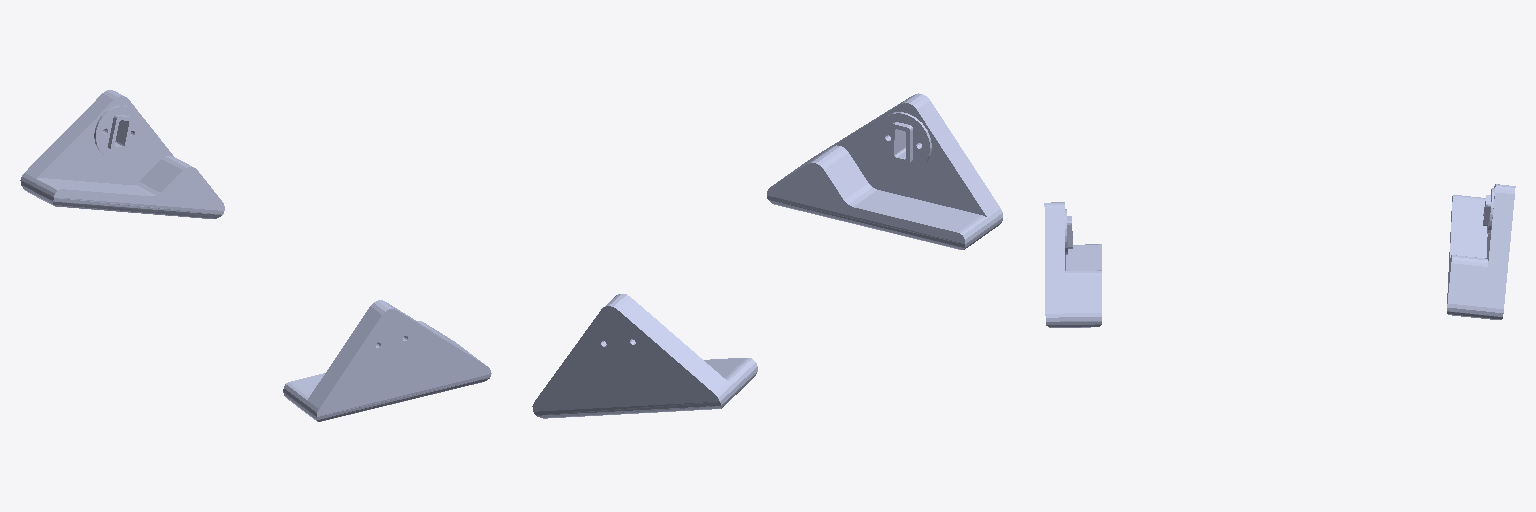
The robot description file, URDF, robot "dodo_from_sw":
<?xml version="1.0" encoding="utf-8"?>
<!-- This URDF was automatically created by SolidWorks to URDF Exporter! Originally created by [author] ([email redacted]) 
     Commit Version: 1.6.0-4-g7f85cfe  Build Version: 1.6.7995.38578
     For more information, please see http://wiki.ros.org/sw_urdf_exporter -->
<robot
  name="dodo_from_sw">
  <link
    name="base_link">
    <inertial>
      <origin
        xyz="-0.12176 0.056469 0.116"
        rpy="0 0 0" />
      <mass
        value="1.5061" />
      <inertia
        ixx="0.0025805"
        ixy="-3.2467E-05"
        ixz="1.3104E-06"
        iyy="0.0050145"
        iyz="-3.2231E-07"
        izz="0.0041706" />
    </inertial>
    <visual>
      <origin
        xyz="0 0 0"
        rpy="0 0 0" />
      <geometry>
        <mesh
          filename="base_link_visuals.obj" />
      </geometry>
      <material
        name="">
        <color
          rgba="0.79216 0.81961 0.93333 1" />
      </material>
    </visual>
    <collision>
      <origin
        xyz="0 0 0"
        rpy="0 0 0" />
      <geometry>
        <mesh
          filename="base_link_visuals.obj" />
      </geometry>
    </collision>
  </link>
  <link
    name="Left_HIP">
    <inertial>
      <origin
        xyz="-0.0026466 -0.011737 -0.061775"
        rpy="0 0 0" />
      <mass
        value="0.087538" />
      <inertia
        ixx="6.8201E-05"
        ixy="-2.03E-07"
        ixz="-2.4518E-07"
        iyy="4.5068E-05"
        iyz="-9.4509E-06"
        izz="2.9111E-05" />
    </inertial>
    <visual>
      <origin
        xyz="0 0 0"
        rpy="0 0 0" />
      <geometry>
        <mesh
          filename="Left_HIP_visuals.obj" />
      </geometry>
      <material
        name="">
        <color
          rgba="0.75294 0.75294 0.75294 1" />
      </material>
    </visual>
    <collision>
      <origin
        xyz="0 0 0"
        rpy="0 0 0" />
      <geometry>
        <mesh
          filename="Left_HIP_visuals.obj" />
      </geometry>
    </collision>
  </link>
  <joint
    name="Left_HIP_AA"
    type="continuous">
    <origin
      xyz="-0.04463 -0.051748 -0.012022"
      rpy="1.5708 0.11394 1.5708" />
    <parent
      link="base_link" />
    <child
      link="Left_HIP" />
    <axis
      xyz="0 0 1" />
  </joint>
  <link
    name="Left_THIGH">
    <inertial>
      <origin
        xyz="0.033704 -2.0834E-05 -0.1097"
        rpy="0 0 0" />
      <mass
        value="0.10378" />
      <inertia
        ixx="0.00026813"
        ixy="-1.1378E-08"
        ixz="1.2794E-05"
        iyy="0.00026178"
        iyz="6.9814E-08"
        izz="1.6818E-05" />
    </inertial>
    <visual>
      <origin
        xyz="0 0 0"
        rpy="0 0 0" />
      <geometry>
        <mesh
          filename="Left_THIGH_visuals.obj" />
      </geometry>
      <material
        name="">
        <color
          rgba="0.75294 0.75294 0.75294 1" />
      </material>
    </visual>
    <collision>
      <origin
        xyz="0 0 0"
        rpy="0 0 0" />
      <geometry>
        <mesh
          filename="Left_THIGH_visuals.obj" />
      </geometry>
    </collision>
  </link>
  <joint
    name="Left_THIGH_FE"
    type="continuous">
    <origin
      xyz="0 -0.04009 -0.082259"
      rpy="-1.819 0 0" />
    <parent
      link="Left_HIP" />
    <child
      link="Left_THIGH" />
    <axis
      xyz="1 0 0" />
  </joint>
  <link
    name="Left_SHIN">
    <inertial>
      <origin
        xyz="0.053841 -2.0803E-05 -0.1097"
        rpy="0 0 0" />
      <mass
        value="0.10378" />
      <inertia
        ixx="0.00026813"
        ixy="-1.1314E-08"
        ixz="1.2794E-05"
        iyy="0.00026177"
        iyz="6.942E-08"
        izz="1.6811E-05" />
    </inertial>
    <visual>
      <origin
        xyz="0 0 0"
        rpy="0 0 0" />
      <geometry>
        <mesh
          filename="Left_SHIN_visuals.obj" />
      </geometry>
      <material
        name="">
        <color
          rgba="0.75294 0.75294 0.75294 1" />
      </material>
    </visual>
    <collision>
      <origin
        xyz="0 0 0"
        rpy="0 0 0" />
      <geometry>
        <mesh
          filename="Left_SHIN_visuals.obj" />
      </geometry>
    </collision>
  </link>
  <joint
    name="Left_KNEE_FE"
    type="continuous">
    <origin
      xyz="0.017314 0 -0.2"
      rpy="0.5911 0 0" />
    <parent
      link="Left_THIGH" />
    <child
      link="Left_SHIN" />
    <axis
      xyz="1 0 0" />
  </joint>
  <link
    name="Left_FOOT_FE">
    <inertial>
      <origin
        xyz="0.0093704 -0.022508 -0.030073"
        rpy="0 0 0" />
      <mass
        value="0.071589" />
      <inertia
        ixx="1.774E-05"
        ixy="1.4257E-06"
        ixz="-2.8946E-06"
        iyy="5.4633E-05"
        iyz="3.3764E-06"
        izz="5.9326E-05" />
    </inertial>
    <visual>
      <origin
        xyz="0 0 0"
        rpy="0 0 0" />
      <geometry>
        <mesh
          filename="Left_FOOT_FE_visuals.obj" />
      </geometry>
      <material
        name="">
        <color
          rgba="0.79216 0.81961 0.93333 1" />
      </material>
    </visual>
    <collision>
      <origin
        xyz="0 0 0"
        rpy="0 0 0" />
      <geometry>
        <mesh
          filename="Left_FOOT_FE_visuals.obj" />
      </geometry>
    </collision>
  </link>
  <joint
    name="Left_FOOT_ANKLE"
    type="continuous">
    <origin
      xyz="0.040144 0 -0.2"
      rpy="1.5708 -0.051177 -1.5708" />
    <parent
      link="Left_SHIN" />
    <child
      link="Left_FOOT_FE" />
    <axis
      xyz="0 0 1" />
  </joint>
  <link
    name="Right_HIP">
    <inertial>
      <origin
        xyz="-0.0026476 -0.011738 0.061775"
        rpy="0 0 0" />
      <mass
        value="0.087539" />
      <inertia
        ixx="6.8203E-05"
        ixy="-2.0289E-07"
        ixz="2.4503E-07"
        iyy="4.5077E-05"
        iyz="9.4499E-06"
        izz="2.9119E-05" />
    </inertial>
    <visual>
      <origin
        xyz="0 0 0"
        rpy="0 0 0" />
      <geometry>
        <mesh
          filename="Right_HIP_visuals.obj" />
      </geometry>
      <material
        name="">
        <color
          rgba="0.75294 0.75294 0.75294 1" />
      </material>
    </visual>
    <collision>
      <origin
        xyz="0 0 0"
        rpy="0 0 0" />
      <geometry>
        <mesh
          filename="Right_HIP_visuals.obj" />
      </geometry>
    </collision>
  </link>
  <joint
    name="Right_HIP_AA"
    type="continuous">
    <origin
      xyz="-0.04463 -0.18375 -0.012022"
      rpy="1.5708 0.012959 -1.5708" />
    <parent
      link="base_link" />
    <child
      link="Right_HIP" />
    <axis
      xyz="0 0 1" />
  </joint>
  <link
    name="Right_THIGH">
    <inertial>
      <origin
        xyz="0.026247 -2.0681E-05 -0.1097"
        rpy="0 0 0" />
      <mass
        value="0.10378" />
      <inertia
        ixx="0.00026813"
        ixy="-1.1643E-08"
        ixz="1.2798E-05"
        iyy="0.00026179"
        iyz="6.9854E-08"
        izz="1.6825E-05" />
    </inertial>
    <visual>
      <origin
        xyz="0 0 0"
        rpy="0 0 0" />
      <geometry>
        <mesh
          filename="Right_THIGH_visuals.obj" />
      </geometry>
      <material
        name="">
        <color
          rgba="0.75294 0.75294 0.75294 1" />
      </material>
    </visual>
    <collision>
      <origin
        xyz="0 0 0"
        rpy="0 0 0" />
      <geometry>
        <mesh
          filename="Right_THIGH_visuals.obj" />
      </geometry>
    </collision>
  </link>
  <joint
    name="Right_THIGH_FE"
    type="continuous">
    <origin
      xyz="0.0074574 -0.04009 0.082259"
      rpy="-1.629 0 0" />
    <parent
      link="Right_HIP" />
    <child
      link="Right_THIGH" />
    <axis
      xyz="1 0 0" />
  </joint>
  <link
    name="Right_SHIN">
    <inertial>
      <origin
        xyz="0.026247 -2.0621E-05 -0.1097"
        rpy="0 0 0" />
      <mass
        value="0.10378" />
      <inertia
        ixx="0.00026813"
        ixy="-1.1547E-08"
        ixz="1.2797E-05"
        iyy="0.00026178"
        iyz="6.9376E-08"
        izz="1.6818E-05" />
    </inertial>
    <visual>
      <origin
        xyz="0 0 0"
        rpy="0 0 0" />
      <geometry>
        <mesh
          filename="Right_SHIN_visuals.obj" />
      </geometry>
      <material
        name="">
        <color
          rgba="0.75294 0.75294 0.75294 1" />
      </material>
    </visual>
    <collision>
      <origin
        xyz="0 0 0"
        rpy="0 0 0" />
      <geometry>
        <mesh
          filename="Right_SHIN_visuals.obj" />
      </geometry>
    </collision>
  </link>
  <joint
    name="Right_SHIN_FE"
    type="continuous">
    <origin
      xyz="0.03745 0 -0.2"
      rpy="0.05784 0 0" />
    <parent
      link="Right_THIGH" />
    <child
      link="Right_SHIN" />
    <axis
      xyz="1 0 0" />
  </joint>
  <link
    name="Right_FOOT_FE">
    <inertial>
      <origin
        xyz="0.0093694 -0.022508 0.020626"
        rpy="0 0 0" />
      <mass
        value="0.071587" />
      <inertia
        ixx="1.774E-05"
        ixy="1.425E-06"
        ixz="2.8943E-06"
        iyy="5.4632E-05"
        iyz="-3.3764E-06"
        izz="5.9325E-05" />
    </inertial>
    <visual>
      <origin
        xyz="0 0 0"
        rpy="0 0 0" />
      <geometry>
        <mesh
          filename="Right_FOOT_FE_visuals.obj" />
      </geometry>
      <material
        name="">
        <color
          rgba="0.79216 0.81961 0.93333 1" />
      </material>
    </visual>
    <collision>
      <origin
        xyz="0 0 0"
        rpy="0 0 0" />
      <geometry>
        <mesh
          filename="Right_FOOT_FE_visuals.obj" />
      </geometry>
    </collision>
  </link>
  <joint
    name="Right_FOOT_ANKLE"
    type="continuous">
    <origin
      xyz="0.021998 0 -0.2"
      rpy="1.5708 -0.00037978 1.5708" />
    <parent
      link="Right_SHIN" />
    <child
      link="Right_FOOT_FE" />
    <axis
      xyz="0 0 1" />
  </joint>
</robot>

--- Facts derived from the render (not from the file) ---
Views: 3 orthographic renders of the robot side by side, from view 1: azimuth 30°, elevation 25°; view 2: azimuth 150°, elevation 25°; view 3: azimuth 270°, elevation 25°.
Robot: dodo_from_sw — 9 links, 8 joints (8 continuous); root link base_link; default pose: all joints at 0.
Links seen in each view (by area): view 1: Left_FOOT_FE, Right_FOOT_FE; view 2: Right_FOOT_FE, Left_FOOT_FE; view 3: Left_FOOT_FE, Right_FOOT_FE.
Boxes of the visible links, x1=… form: Left_FOOT_FE: x1=20, y1=90, x2=224, y2=218; Right_FOOT_FE: x1=283, y1=300, x2=491, y2=421; Right_FOOT_FE: x1=767, y1=93, x2=1002, y2=249; Left_FOOT_FE: x1=532, y1=294, x2=757, y2=418; Left_FOOT_FE: x1=1447, y1=184, x2=1515, y2=319; Right_FOOT_FE: x1=1044, y1=202, x2=1101, y2=327.
Size in the robot's own frame: 0.1165 by 0.2818 by 0.0704 metres.
Meshes: 9 distinct files referenced, 2 mesh visuals loaded (2 OBJ); not drawn: 7 (reference not matched to a file when rendering).